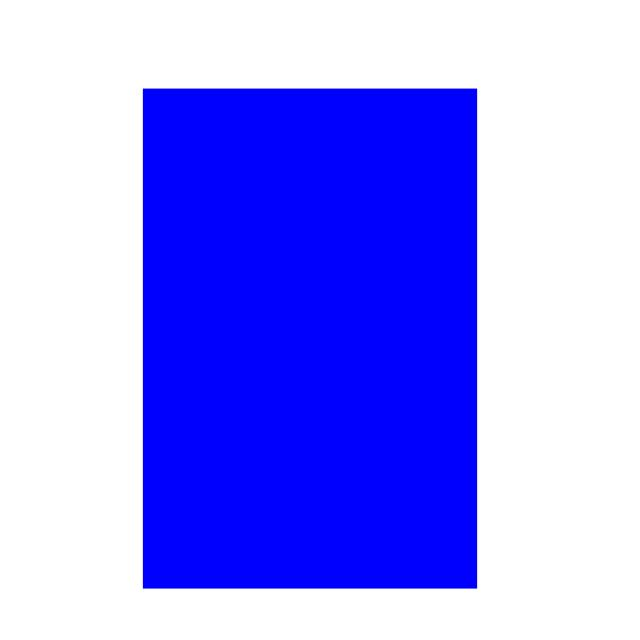Rectangle: (117, 74, 514, 616)
